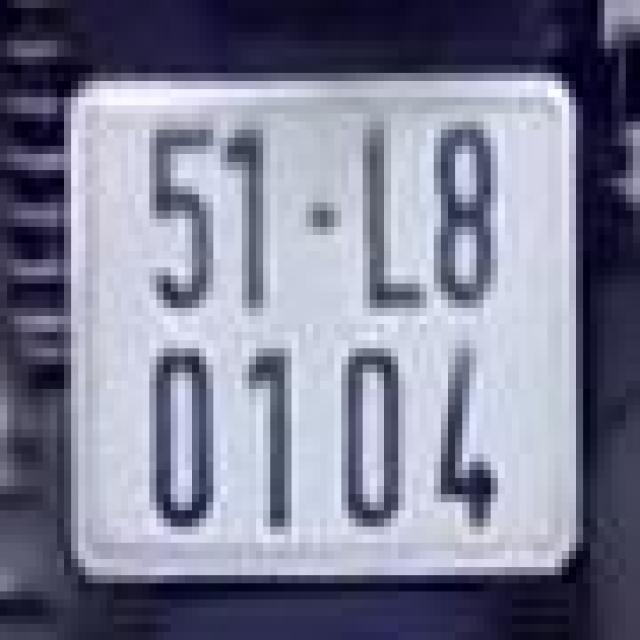0: (327, 336, 405, 539), (128, 344, 213, 514)
1: (220, 109, 298, 320), (246, 340, 310, 543)
4: (427, 324, 505, 527)
5: (117, 114, 217, 332)
8: (430, 113, 530, 308)
L: (352, 101, 423, 312)
